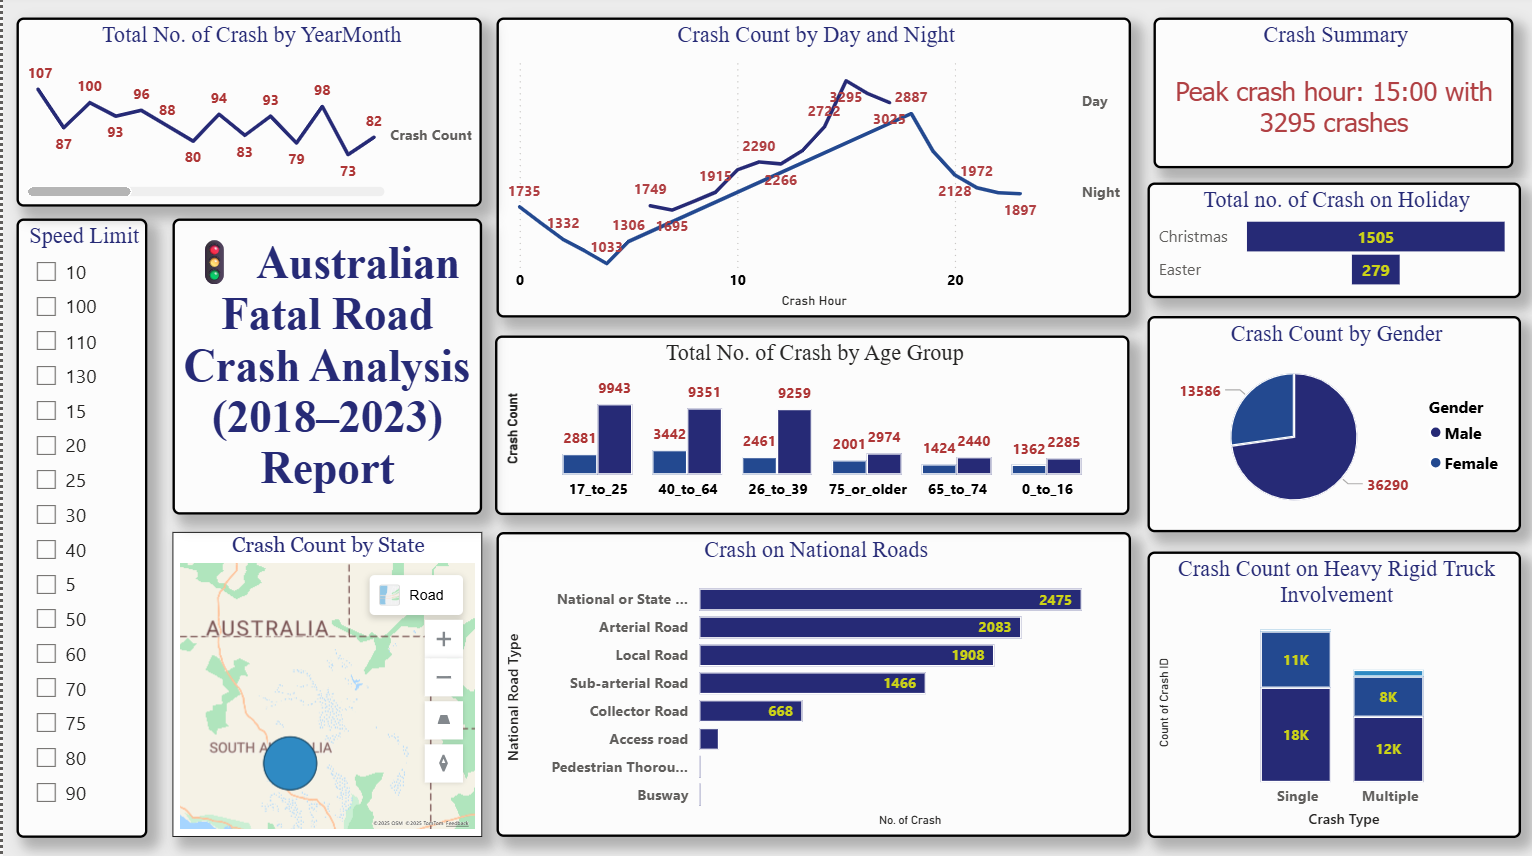

What the dashboard file says about the page in this screenshot:
{"tool":"powerbi","page":{"name":"Dashboard_CrashCount","canvas":[1280,720],"ordinal":12},"visuals":[{"type":"azureMap","fields":{"Category":["ardd_fatalities.State"],"Size":["ardd_fatalities.Crash Count"]},"box":[141.3,449.1,258.8,254.6],"z":0},{"type":"card","title":"Crash Summary","fields":{"Values":["ardd_fatalities.Peak Crash Summary"]},"box":[961.1,18.2,300.8,96.5],"z":1000},{"type":"lineChart","title":"Crash Count by Day and Night","fields":{"Series":["ardd_fatalities.Time of day"],"Category":["ardd_fatalities.Crash Hour"],"Y":["ardd_fatalities.Crash Count"]},"box":[412.7,18.2,530.2,250.4],"z":2000},{"type":"clusteredBarChart","title":"Crash on National Roads","fields":{"Category":["ardd_fatalities.National Road Type"],"Y":["CountNonNull(ardd_fatalities.Crash ID)"]},"box":[412.7,449.1,530.2,254.6],"z":3000},{"type":"clusteredColumnChart","title":"Total No. of Crash by Age Group","fields":{"Category":["ardd_fatalities.Age Group"],"Series":["ardd_fatalities.Gender"],"Y":["ardd_fatalities.Crash Count"]},"box":[411.3,284,530.2,149.7],"z":4000},{"type":"columnChart","title":"Crash Count on Heavy Rigid Truck Involvement","fields":{"Category":["ardd_fatalities.Crash Type"],"Y":["CountNonNull(ardd_fatalities.Crash ID)"],"Series":["ardd_fatalities.Heavy Rigid Truck Involvement"]},"box":[955.5,464.5,312,239.2],"z":5000},{"type":"funnel","title":"Total no. of Crash on Holiday","fields":{"Y":["ardd_fatalities.Crash Count"],"Category":["ardd_fatalities.Holiday Period"]},"box":[955.5,156.7,312,96.5],"z":6000},{"type":"pieChart","fields":{"Category":["ardd_fatalities.Gender"],"Y":["ardd_fatalities.Crash Count"]},"box":[955.5,268.6,312,180.5],"z":7000},{"type":"slicer","title":"Speed Limit","fields":{"Values":["ardd_fatalities.Speed Limit"]},"box":[11.2,200.1,109.1,498],"z":8000},{"type":"lineChart","title":"Total No. of Crash by YearMonth","fields":{"Category":["calendar (2).YearMonth"],"Y":["ardd_fatalities.Crash Count"]},"box":[11.2,18.2,388.9,158.1],"z":9000},{"type":"textbox","box":[141.3,186.1,258.8,247.6],"z":10000}]}

Visuals, with their boxes in screenshot pixels (x1, y1, x2, y2), scaled from the page's 1280x720 canvas onto the 1532x856 screenshot:
azureMap - ardd_fatalities.State x ardd_fatalities.Crash Count: x1=169, y1=534, x2=479, y2=837
"Crash Summary" card: x1=1150, y1=22, x2=1510, y2=136
"Crash Count by Day and Night" lineChart: x1=494, y1=22, x2=1129, y2=319
"Crash on National Roads" clusteredBarChart: x1=494, y1=534, x2=1129, y2=837
"Total No. of Crash by Age Group" clusteredColumnChart: x1=492, y1=338, x2=1127, y2=516
"Crash Count on Heavy Rigid Truck Involvement" columnChart: x1=1144, y1=552, x2=1517, y2=837
"Total no. of Crash on Holiday" funnel: x1=1144, y1=186, x2=1517, y2=301
pieChart - ardd_fatalities.Gender x ardd_fatalities.Crash Count: x1=1144, y1=319, x2=1517, y2=534
"Speed Limit" slicer: x1=13, y1=238, x2=144, y2=830
"Total No. of Crash by YearMonth" lineChart: x1=13, y1=22, x2=479, y2=210
textbox: x1=169, y1=221, x2=479, y2=516
